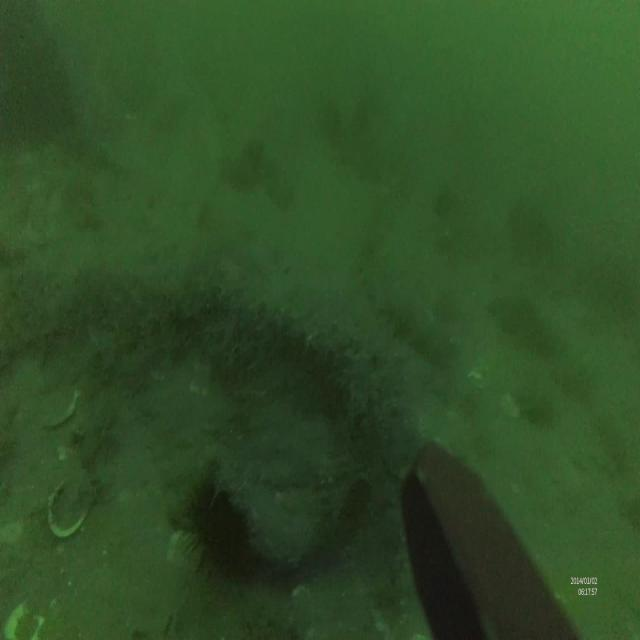echinus: (183, 488, 248, 576)
